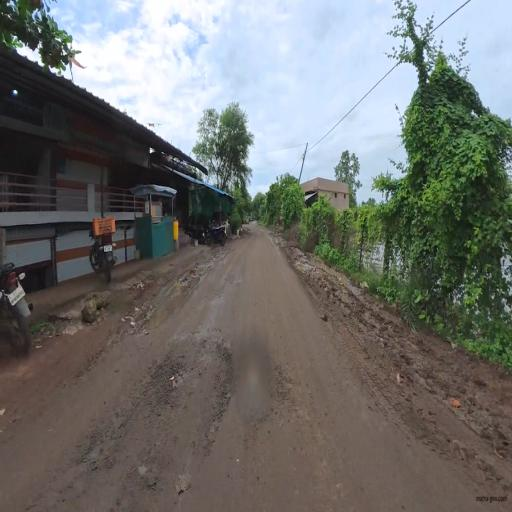ravelling: (132, 332, 236, 495)
